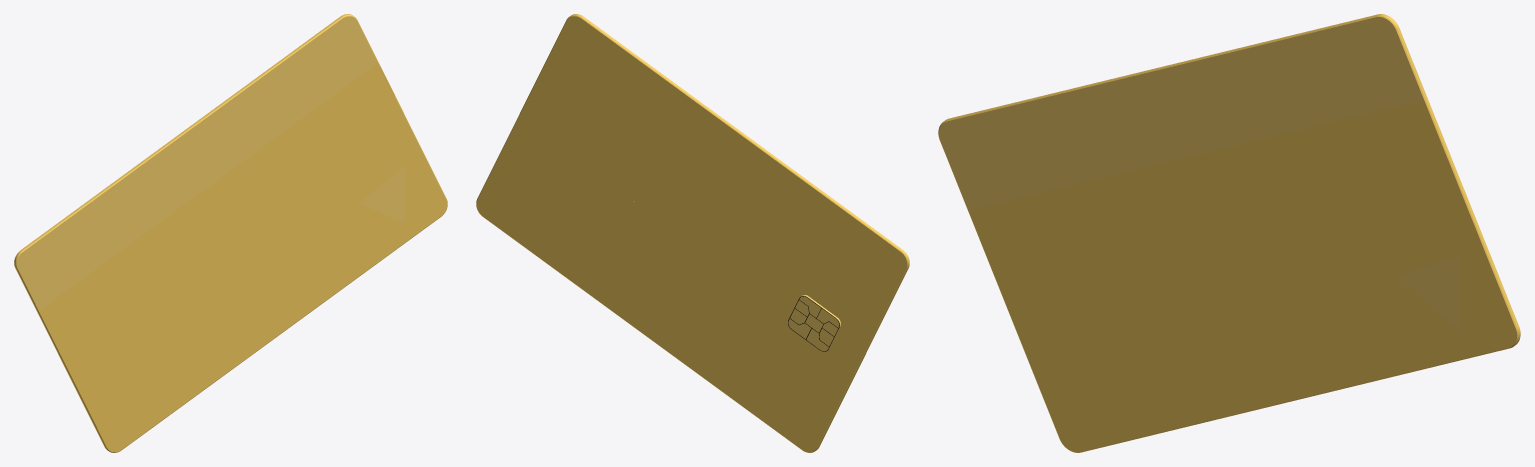
File: gold_card_smol.glb
3 renders of one model, left to right at view 1: azimuth 30°, elevation 25°; view 2: azimuth 150°, elevation 25°; view 3: azimuth 330°, elevation 25°, orthographic. The views are drawn at different scales.
Visible parts, largest first — view 1: Rectangle001_1, Rectangle002_2, Rectangle_0, Star_4; view 2: Rectangle003_3, Rectangle_0, Curve_6; view 3: Rectangle001_1, Rectangle002_2, Rectangle_0, Star_4.
Boxes of the visible parts, x1,y1,x2,y2 form: Rectangle001_1: [39, 63, 447, 452]; Rectangle002_2: [16, 16, 377, 310]; Rectangle_0: [14, 14, 447, 452]; Star_4: [360, 166, 405, 221]; Rectangle003_3: [476, 16, 907, 452]; Rectangle_0: [476, 14, 909, 452]; Curve_6: [788, 295, 840, 351]; Rectangle001_1: [968, 100, 1517, 452]; Rectangle002_2: [939, 17, 1423, 210]; Rectangle_0: [938, 14, 1520, 452]; Star_4: [1398, 256, 1459, 330].
Size of the model in its own units: 0.173 by 0.1458 by 0.00255.
